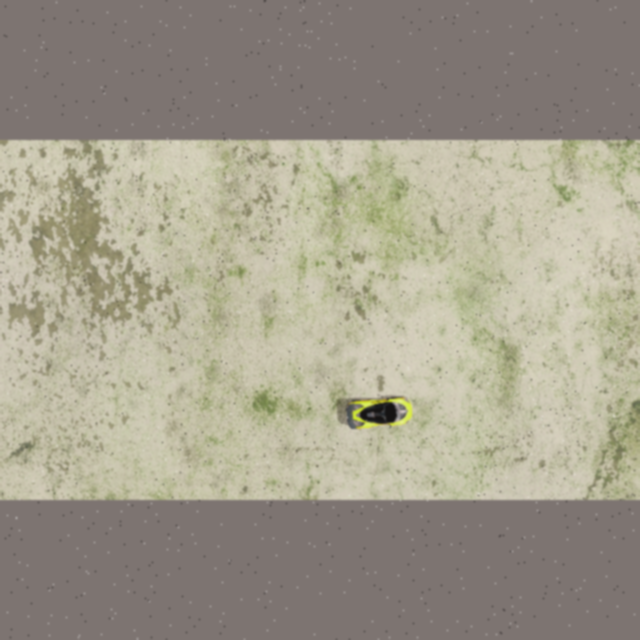car: (344, 394, 415, 432)
